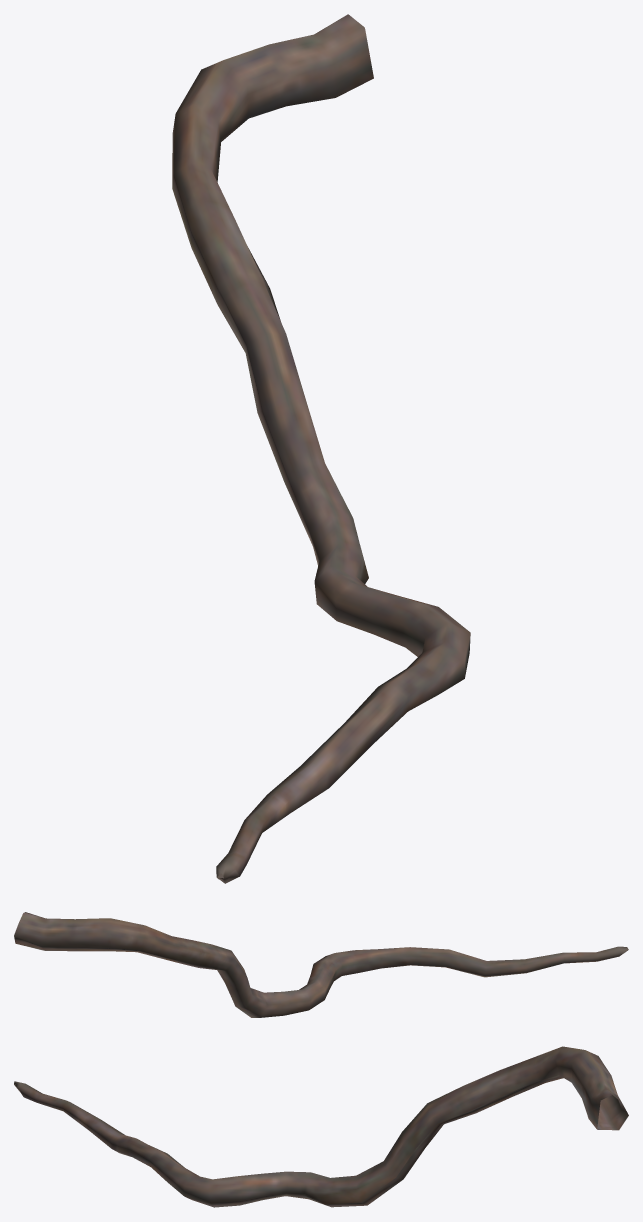
File: SM_Stick_06.fbx
3 renders of one model, top to bottom at view 1: azimuth 30°, elevation 25°; view 2: azimuth 150°, elevation 25°; view 3: azimuth 270°, elevation 25°, orthographic. The views are drawn at different scales.
Visible parts, largest first — view 1: SM_Stick_06_LOD0; view 2: SM_Stick_06_LOD0; view 3: SM_Stick_06_LOD0.
Boxes of the visible parts, x1,y1,x2,y2 form: SM_Stick_06_LOD0: (172,14,470,883); SM_Stick_06_LOD0: (14,912,628,1017); SM_Stick_06_LOD0: (14,1046,628,1207).
Size of the model in its own units: 145 by 205 by 70.46.
